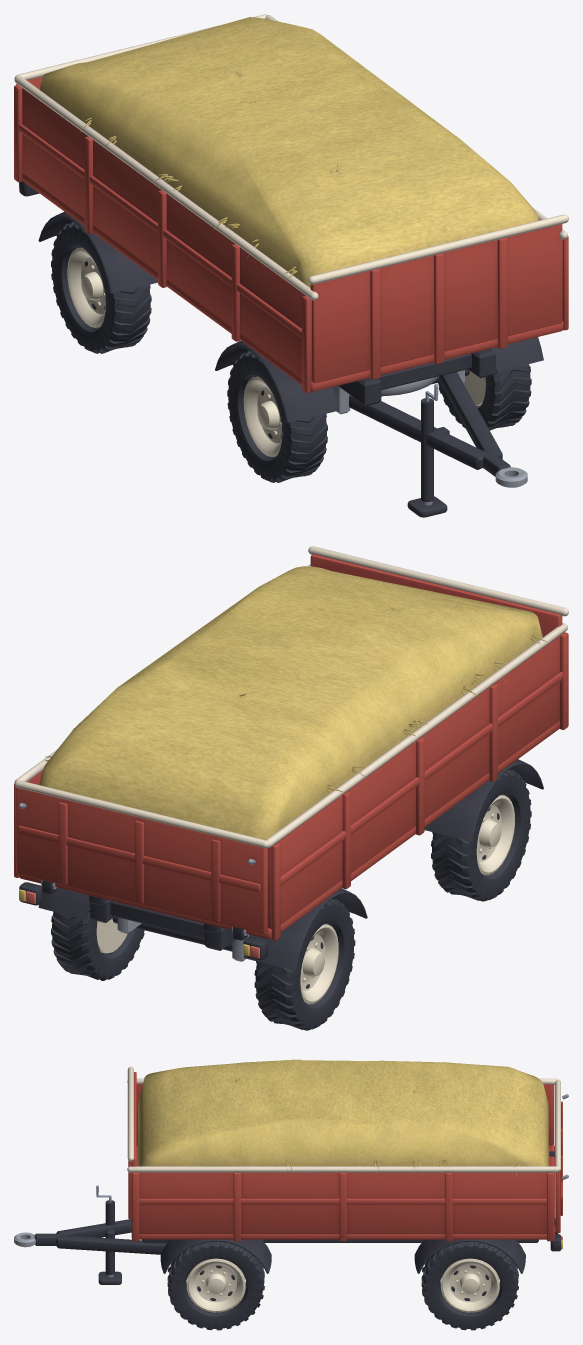
Rendered from farm-trailer.glb.
3 renders of one model, top to bottom at view 1: azimuth 30°, elevation 25°; view 2: azimuth 150°, elevation 25°; view 3: azimuth 270°, elevation 25°, orthographic. The views are drawn at different scales.
Visible parts, largest first — view 1: farm-trailer_body, farm-trailer_wheel_fr, farm-trailer_wheel_rr, farm-trailer_wheel_fl, farm-trailer_tailboard; view 2: farm-trailer_body, farm-trailer_tailboard, farm-trailer_wheel_rr, farm-trailer_wheel_fr, farm-trailer_wheel_rl; view 3: farm-trailer_body, farm-trailer_wheel_fl, farm-trailer_wheel_rl, farm-trailer_tailboard.
Boxes of the visible parts, x1,y1,x2,y2 form: farm-trailer_body: (14,15,568,517); farm-trailer_wheel_fr: (227,351,327,482); farm-trailer_wheel_rr: (51,222,151,353); farm-trailer_wheel_fl: (438,364,531,430); farm-trailer_tailboard: (14,14,266,89); farm-trailer_body: (14,546,568,970); farm-trailer_tailboard: (14,780,268,935); farm-trailer_wheel_rr: (254,899,355,1030); farm-trailer_wheel_fr: (431,769,531,901); farm-trailer_wheel_rl: (51,905,144,980); farm-trailer_body: (14,1059,562,1284); farm-trailer_wheel_fl: (167,1241,264,1330); farm-trailer_wheel_rl: (421,1241,518,1330); farm-trailer_tailboard: (555,1079,568,1233).
Bounding box in the file's own units: 2.08 × 2.11 × 5.24.
14 materials, 2 textured.
